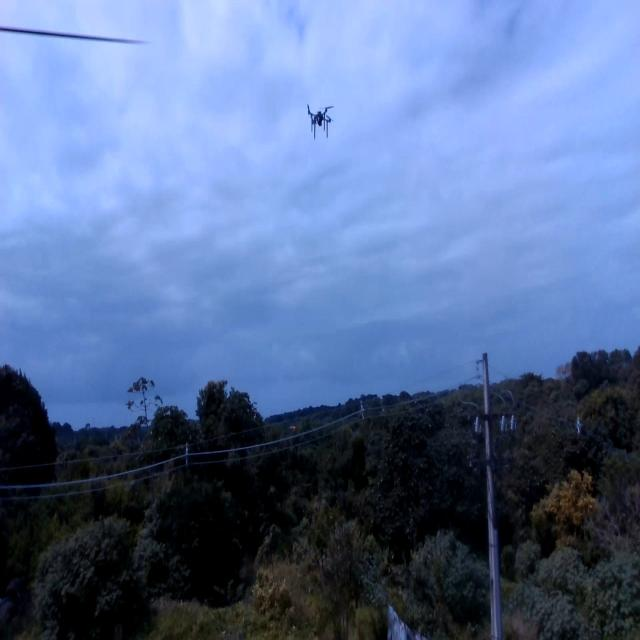-uav-: (300, 95, 340, 144)
